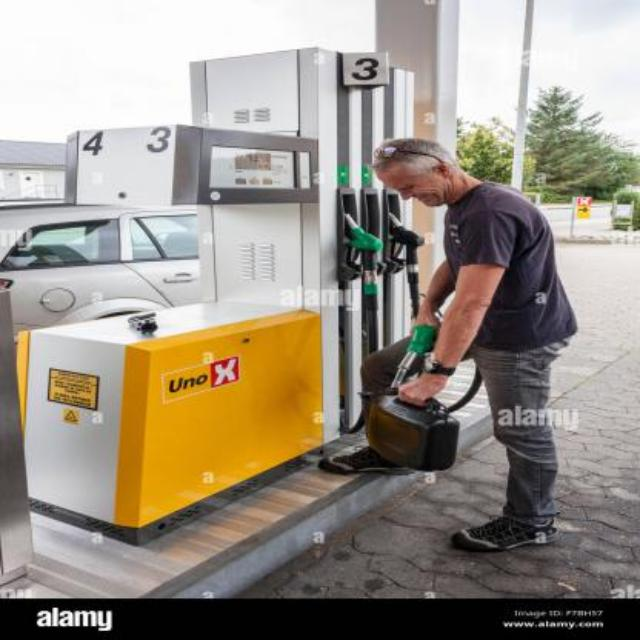chemical_plastic_gallon: (359, 390, 466, 474)
